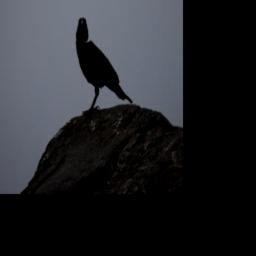Crow: (74, 16, 132, 113)
